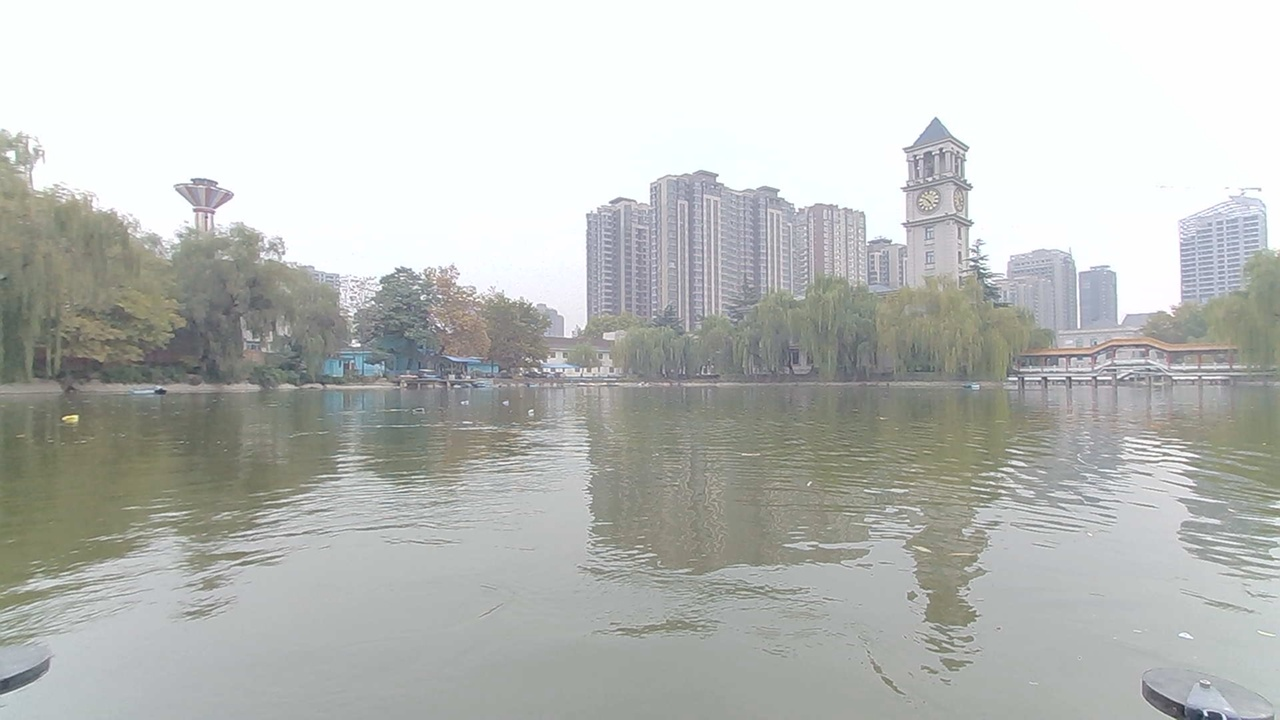bottle: (404, 397, 438, 426), (57, 407, 90, 431), (521, 394, 548, 422), (452, 389, 478, 415), (491, 390, 517, 409)
